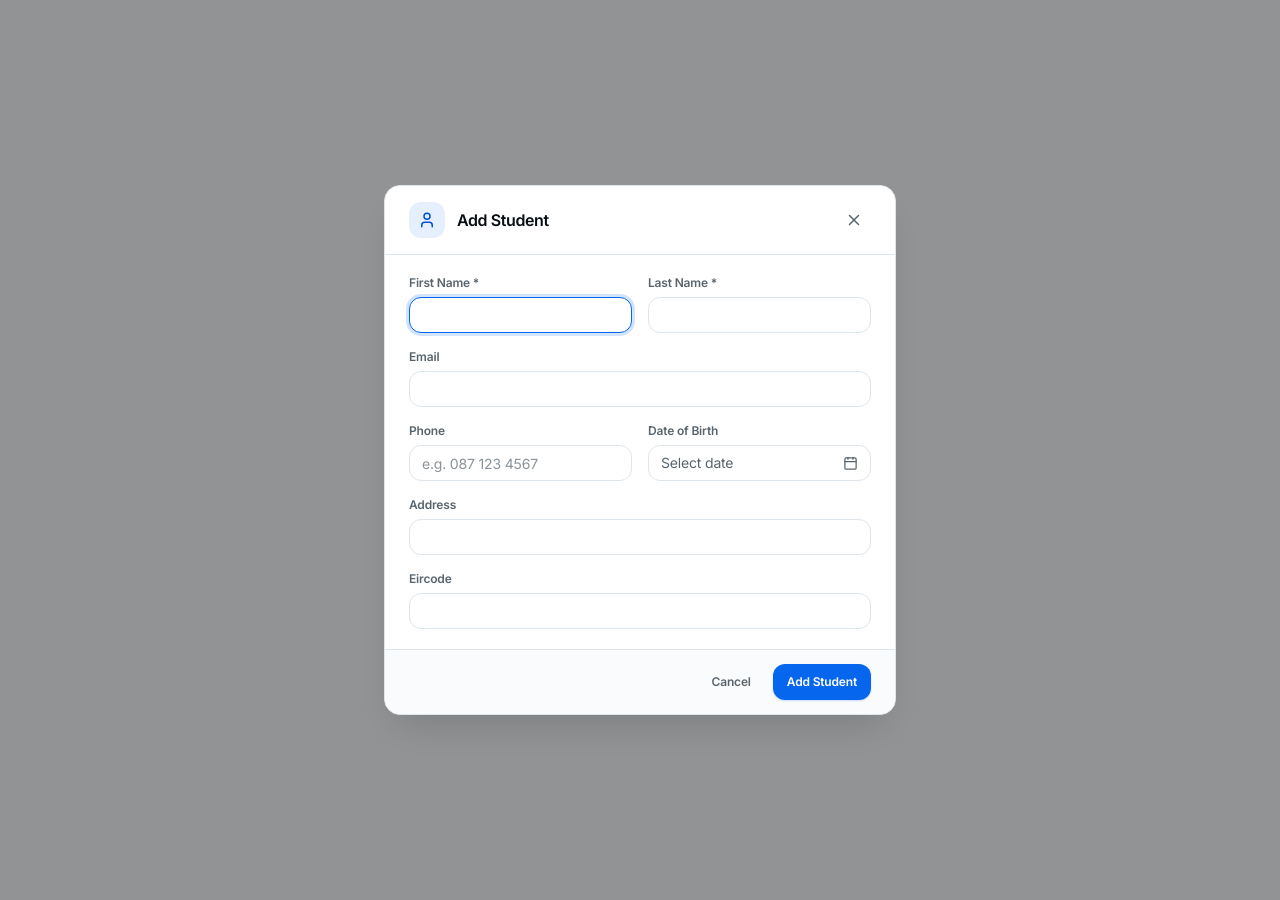
Scenario: StudentModal — errors under the fields › says what is missing under the field and moves focus to it
Type "Olena" into the field labelled "First Name *" at (520,315), box 409,297 -> 632,333
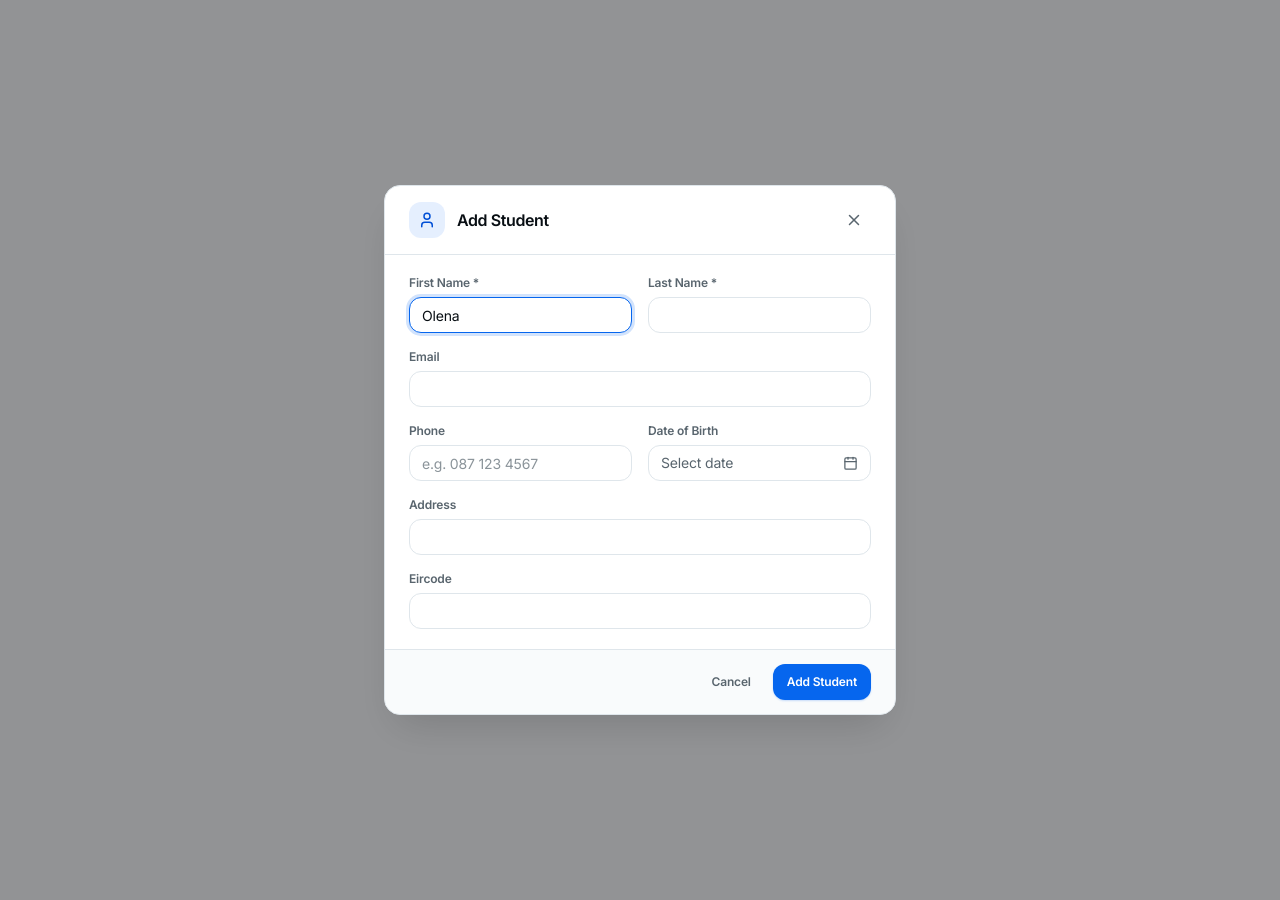
Click the button "Add Student" at (822,682), box 773,664 -> 871,700
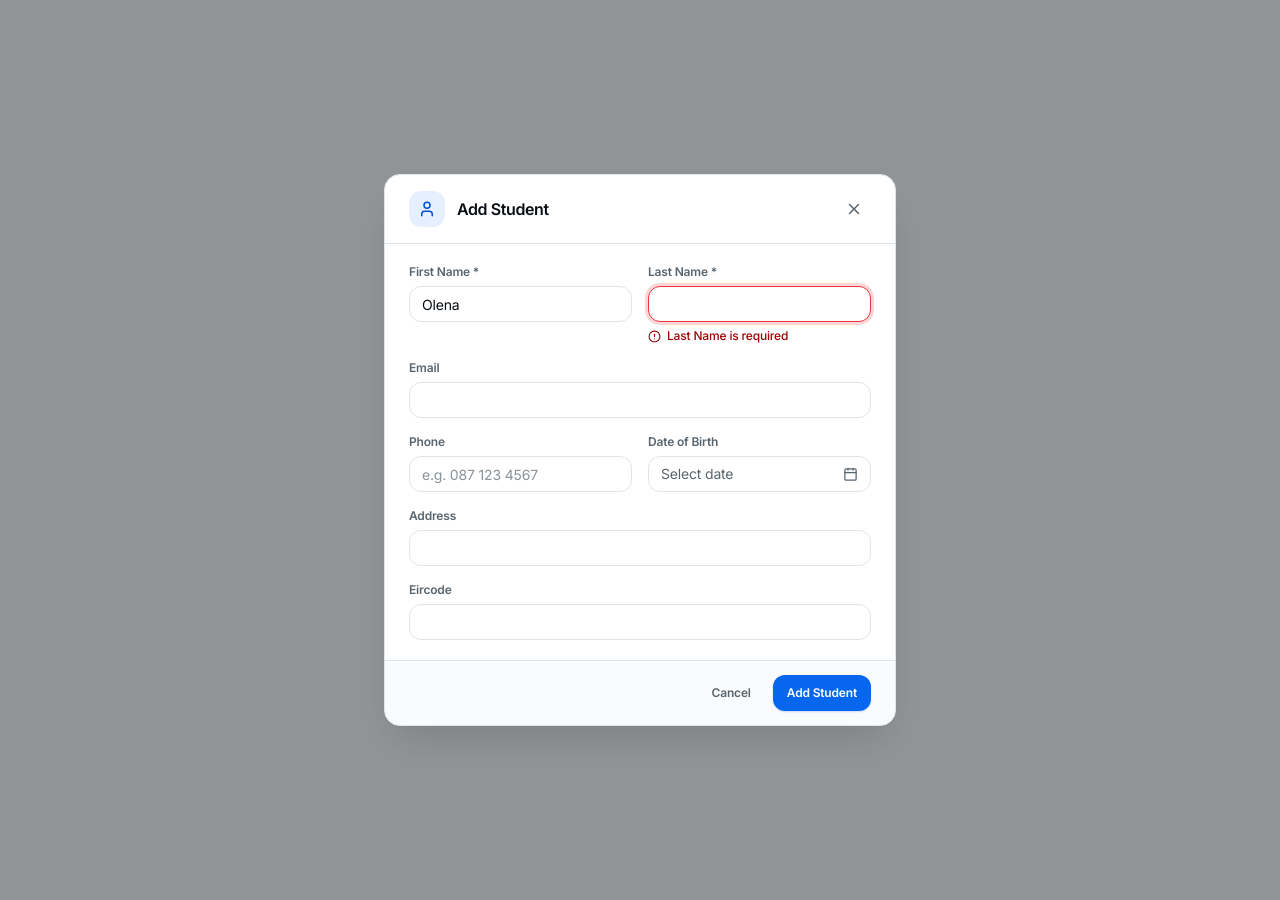
Expected: the text "Last Name is required" is shown, 648,328 -> 788,343
Note: Typing in the field clears its message
Type "K" into the field labelled "Last Name *" at (760,304), box 648,286 -> 871,322
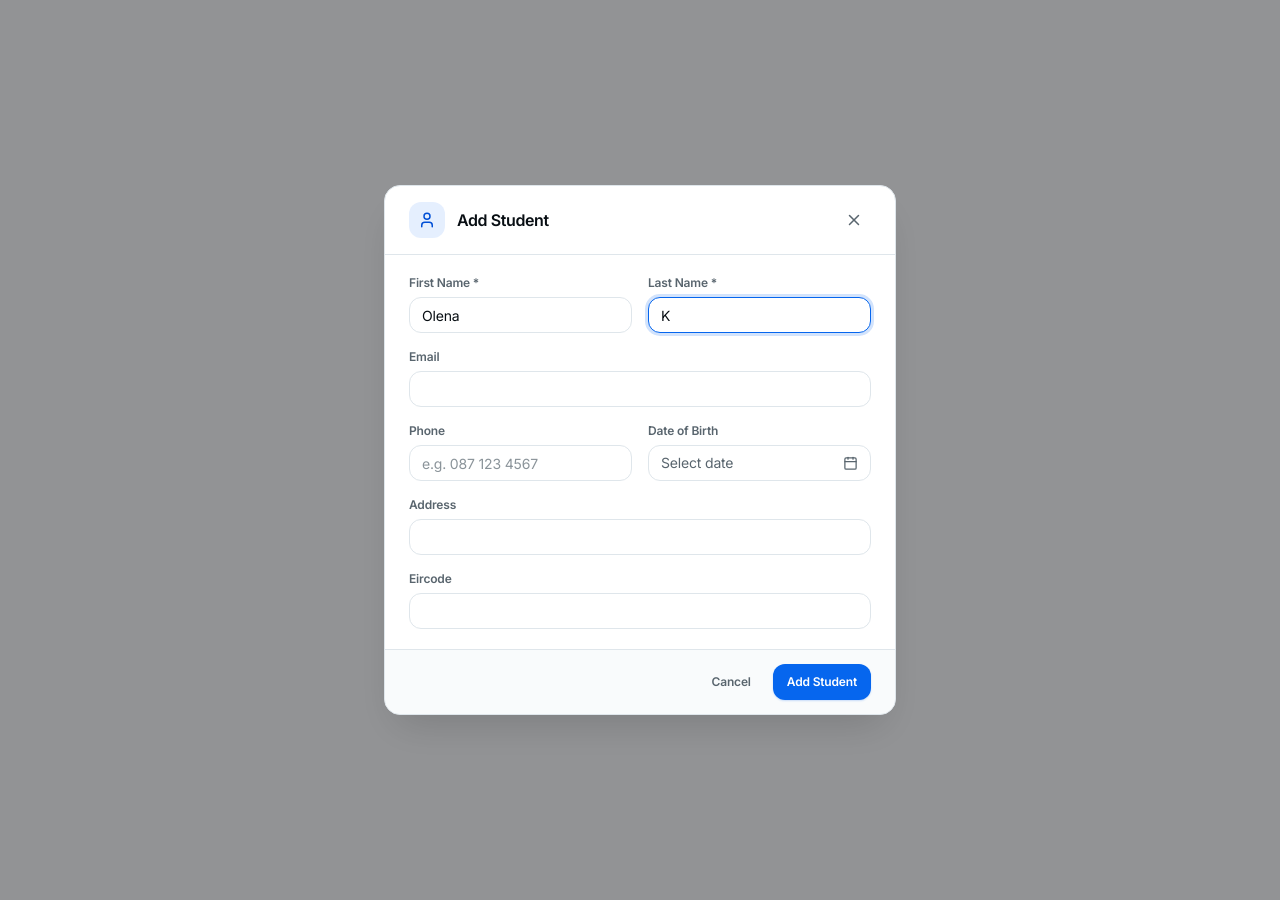
Expected: the text "Last Name is required" is gone
